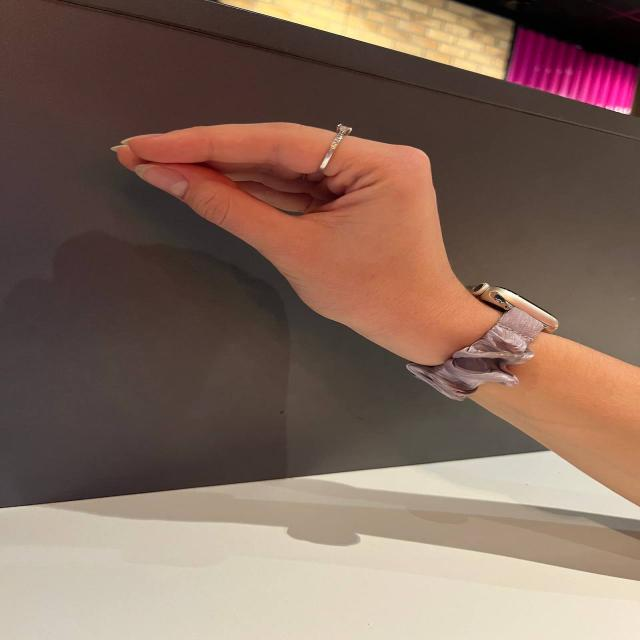zh: (89, 110, 478, 345)
